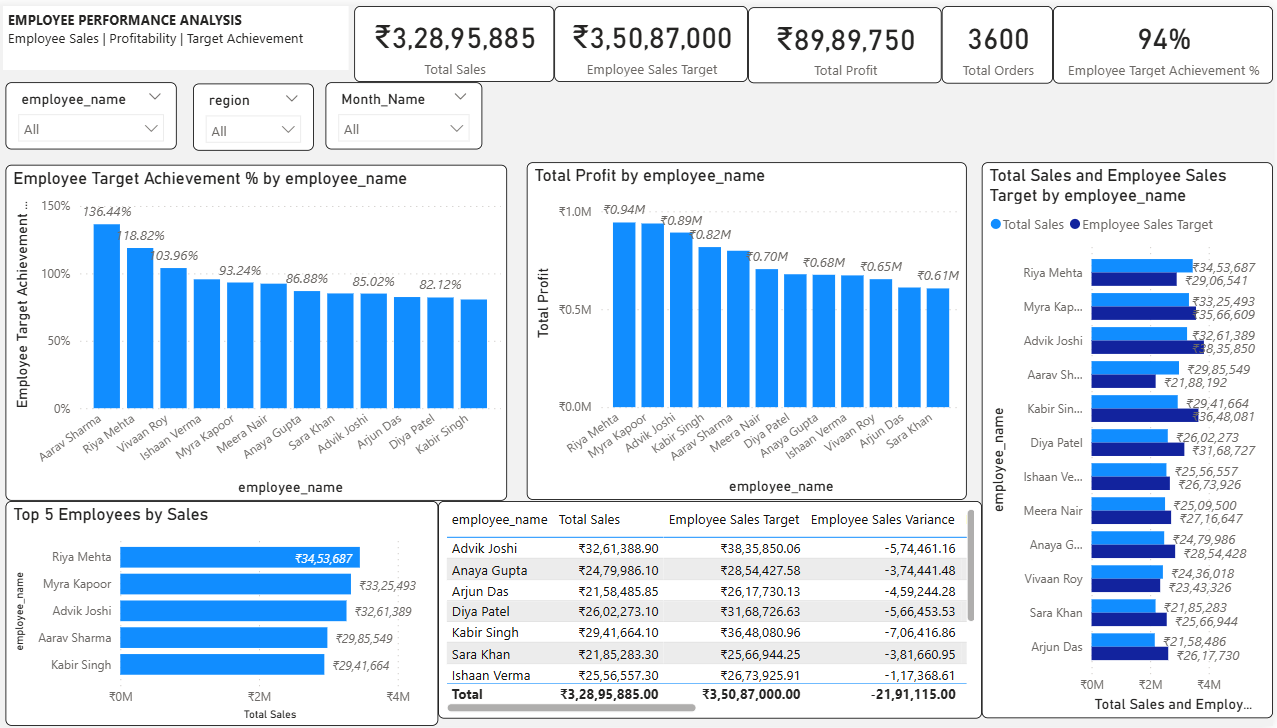

The dashboard page shown, as its layout file describes it:
{"tool":"powerbi","page":{"name":"Employee Performance","canvas":[1280,720],"ordinal":2},"visuals":[{"type":"card","fields":{"Values":["Sales_Transactions.Total Sales"]},"box":[361.2,0,200,76.2],"z":0},{"type":"card","fields":{"Values":["Sales_Transactions.Total Profit"]},"box":[755,1.2,193.8,76.2],"z":1000},{"type":"card","fields":{"Values":["Sales_Transactions.Total Orders"]},"box":[948.8,0,111.2,77.5],"z":2000},{"type":"card","fields":{"Values":["Employee_Monthly_Targets.Employee Target Achievement %"]},"box":[1060,0,220,77.5],"z":3000},{"type":"card","fields":{"Values":["Employee_Monthly_Targets.Employee Sales Target"]},"box":[561.2,0,193.8,76.2],"z":4000},{"type":"slicer","fields":{"Values":["Calendar.Month_Name"]},"box":[332.9,76,156.8,67.5],"z":5000},{"type":"slicer","fields":{"Values":["Sales_Transactions.region"]},"box":[200.2,77.2,120.6,67.5],"z":6000},{"type":"slicer","fields":{"Values":["Employees.employee_name"]},"box":[12.1,76,171.3,67.5],"z":7000},{"type":"clusteredBarChart","fields":{"Category":["Employees.employee_name"],"Y":["Sales_Transactions.Total Sales","Employee_Monthly_Targets.Employee Sales Target"]},"box":[988.8,156.2,291.2,556.2],"z":8000},{"type":"clusteredColumnChart","fields":{"Category":["Employees.employee_name"],"Y":["Employee_Monthly_Targets.Employee Target Achievement %"]},"box":[12.5,158.8,501.2,336.2],"z":9000},{"type":"clusteredColumnChart","fields":{"Category":["Employees.employee_name"],"Y":["Sales_Transactions.Total Profit"]},"box":[534.3,156.8,440.2,337.7],"z":10000},{"type":"textbox","box":[10,0,345.7,64.3],"z":11000},{"type":"tableEx","fields":{"Values":["Employees.employee_name","Sales_Transactions.Total Sales","Employee_Monthly_Targets.Employee Sales Target","Employee_Monthly_Targets.Employee Sales Variance","Employee_Monthly_Targets.Employee Target Achievement %","Sales_Transactions.Total Profit","Sales_Transactions.Total Orders","Sales_Transactions.Employee Performance Status"]},"box":[445,495,543.8,217.5],"z":12000},{"type":"clusteredBarChart","title":"Top 5 Employees by Sales","fields":{"Category":["Employees.employee_name"],"Y":["Sales_Transactions.Total Sales"]},"box":[12.5,495,432.5,225],"z":13000}]}

Visuals, with their boxes in screenshot pixels (x1, y1, x2, y2), scaled from the page's 1280x720 canvas onto the 1277x728 screenshot:
card - Sales_Transactions.Total Sales: [360,0,560,77]
card - Sales_Transactions.Total Profit: [753,1,947,78]
card - Sales_Transactions.Total Orders: [947,0,1058,78]
card - Employee_Monthly_Targets.Employee Target Achievement %: [1058,0,1276,78]
card - Employee_Monthly_Targets.Employee Sales Target: [560,0,753,77]
slicer - Calendar.Month_Name: [332,77,489,145]
slicer - Sales_Transactions.region: [200,78,320,146]
slicer - Employees.employee_name: [12,77,183,145]
clusteredBarChart - Employees.employee_name x Sales_Transactions.Total Sales: [986,158,1276,720]
clusteredColumnChart - Employees.employee_name x Employee_Monthly_Targets.Employee Target Achievement %: [12,161,512,500]
clusteredColumnChart - Employees.employee_name x Sales_Transactions.Total Profit: [533,159,972,500]
textbox: [10,0,355,65]
tableEx - Employees.employee_name x Sales_Transactions.Total Sales: [444,500,986,720]
"Top 5 Employees by Sales" clusteredBarChart: [12,500,444,727]
